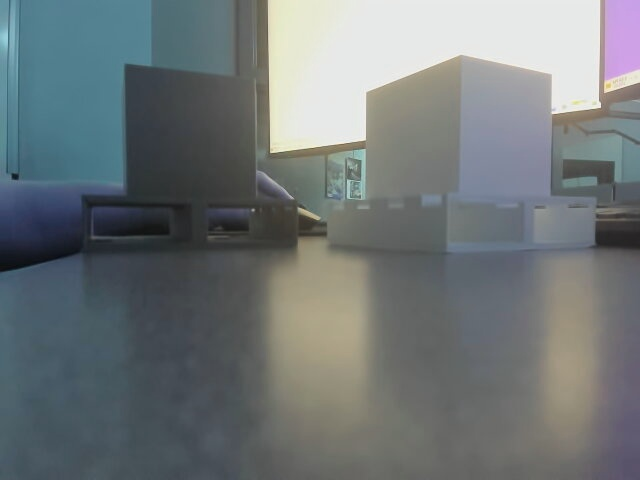grey pallet: (71, 54, 310, 255)
white pallet: (323, 45, 604, 261)
